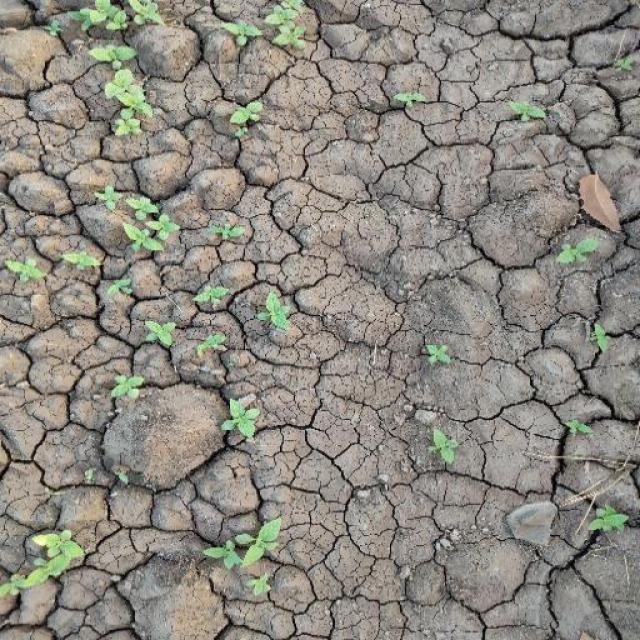crop: (62, 15, 172, 136), (190, 280, 301, 365), (202, 518, 292, 598), (16, 514, 94, 595), (94, 182, 184, 252), (225, 5, 331, 54), (572, 482, 632, 562), (214, 393, 274, 448), (428, 422, 473, 477), (412, 328, 462, 374), (234, 92, 265, 136)
